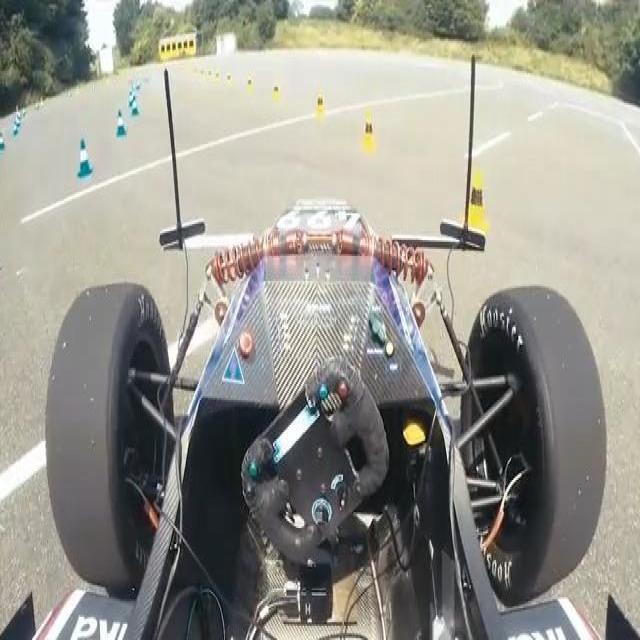blue_cone: (77, 139, 92, 179), (114, 109, 127, 137)
yellow_cone: (462, 162, 490, 240), (359, 112, 377, 157)
